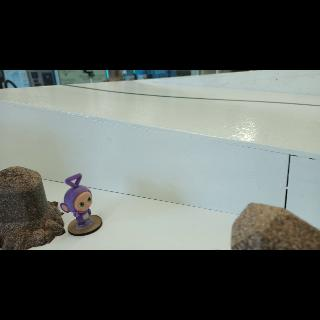teletubby: (60, 174, 92, 226)
